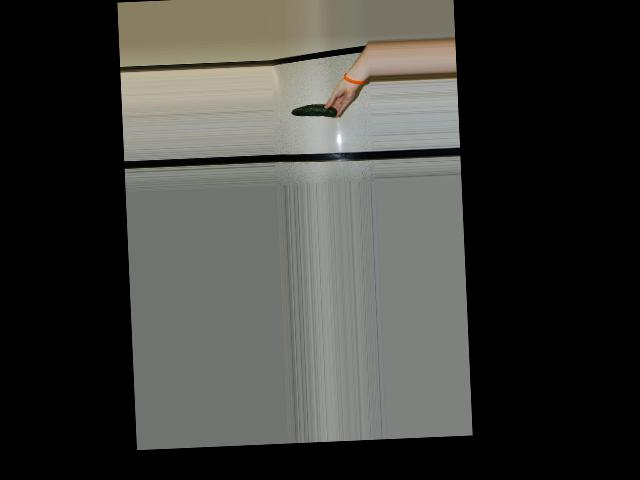cucumber: (290, 104, 337, 119)
